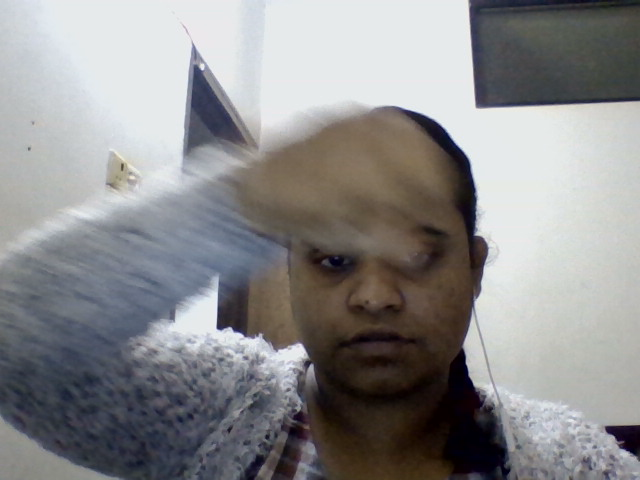Yes: (215, 85, 485, 288)
